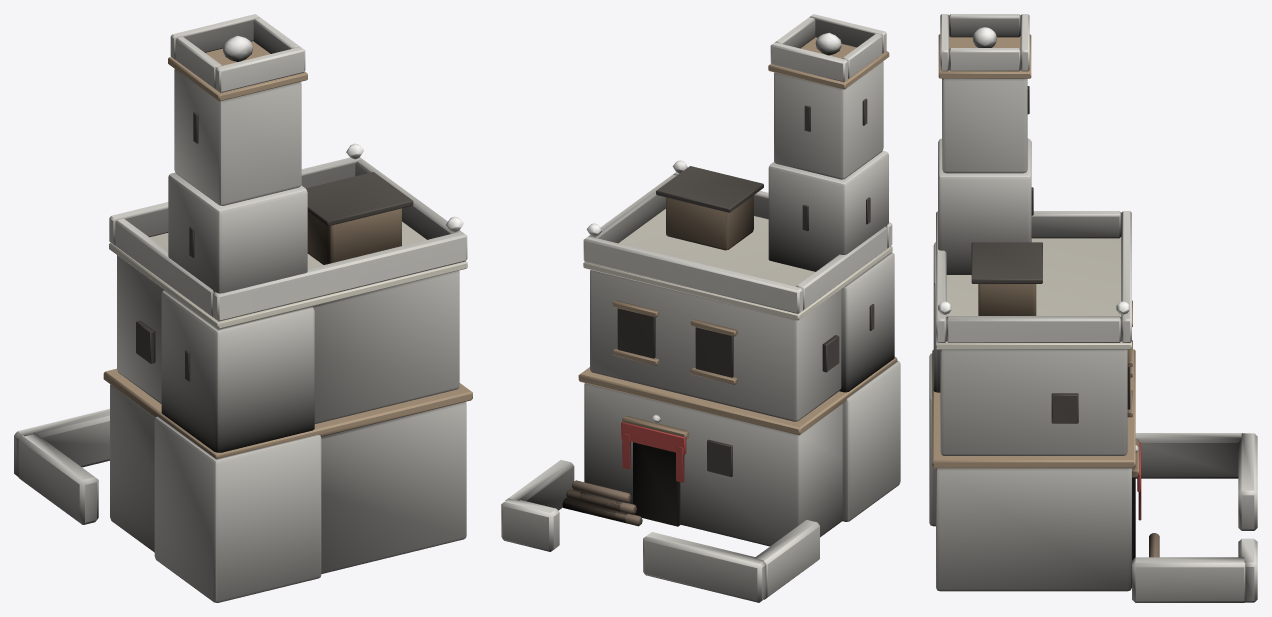
File: rma_home.glb
The picture shows the model from 3 angles, left to right: view 1: azimuth 30°, elevation 25°; view 2: azimuth 150°, elevation 25°; view 3: azimuth 270°, elevation 25°; orthographic projection. The views are drawn at different scales.
Parts seen in each view (by area): view 1: rma_home; view 2: rma_home; view 3: rma_home.
Part boxes in pixels (x1,y1,x2,y2): rma_home: [14, 14, 472, 602]; rma_home: [501, 14, 900, 602]; rma_home: [929, 14, 1257, 602].
Size of the model in its own units: 3.52 by 5.89 by 3.68.
